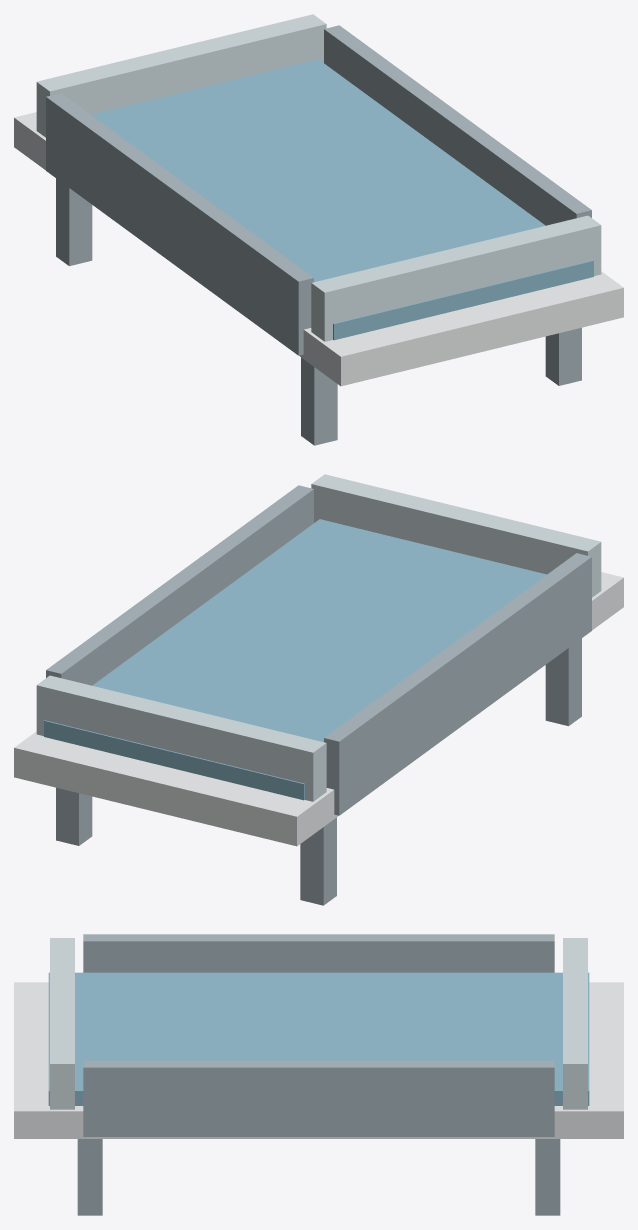
The model's file is bed_lod1.glb.
3 views of the same model, one above another, from view 1: azimuth 30°, elevation 25°; view 2: azimuth 150°, elevation 25°; view 3: azimuth 270°, elevation 25° (orthographic). The views are drawn at different scales.
Parts seen in each view (by area): view 1: bed-node-9, bed-node-7, bed-node-0, bed-node-2, bed-node-1, bed-node-8, bed-node-4, bed-node-3, bed-node-6; view 2: bed-node-9, bed-node-7, bed-node-0, bed-node-1, bed-node-2, bed-node-8, bed-node-3, bed-node-4, bed-node-5; view 3: bed-node-9, bed-node-8, bed-node-7, bed-node-0, bed-node-1, bed-node-2, bed-node-5, bed-node-6.
Part boxes in pixels (<box>): bed-node-9: <box>91,59,593,340</box>; bed-node-7: <box>46,93,313,355</box>; bed-node-0: <box>14,112,623,386</box>; bed-node-2: <box>311,215,601,341</box>; bed-node-1: <box>36,14,326,137</box>; bed-node-8: <box>324,25,591,225</box>; bed-node-4: <box>301,357,337,445</box>; bed-node-3: <box>56,178,92,266</box>; bed-node-6: <box>545,327,581,385</box>; bed-node-9: <box>44,519,546,800</box>; bed-node-7: <box>324,553,591,815</box>; bed-node-0: <box>14,572,623,846</box>; bed-node-1: <box>36,675,326,801</box>; bed-node-2: <box>311,474,601,597</box>; bed-node-8: <box>46,485,313,685</box>; bed-node-3: <box>300,817,336,905</box>; bed-node-4: <box>545,638,581,726</box>; bed-node-5: <box>56,787,92,845</box>; bed-node-9: <box>48,972,589,1105</box>; bed-node-8: <box>83,1060,554,1136</box>; bed-node-7: <box>83,934,554,972</box>; bed-node-0: <box>14,982,623,1138</box>; bed-node-1: <box>563,938,587,1109</box>; bed-node-2: <box>50,938,74,1109</box>; bed-node-5: <box>535,1139,560,1215</box>; bed-node-6: <box>77,1139,102,1215</box>.
Size of the model in its own units: 2.28 by 1.23 by 4.4.
